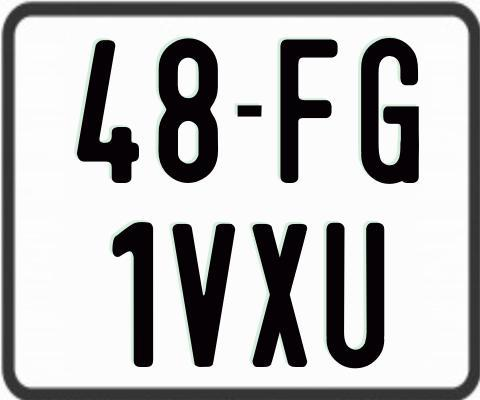1: (109, 221, 150, 366)
4: (77, 37, 144, 185)
8: (158, 36, 223, 186)
F: (280, 36, 344, 180)
G: (360, 36, 418, 182)
U: (326, 221, 385, 372)
V: (172, 221, 235, 370)
X: (251, 222, 306, 371)
